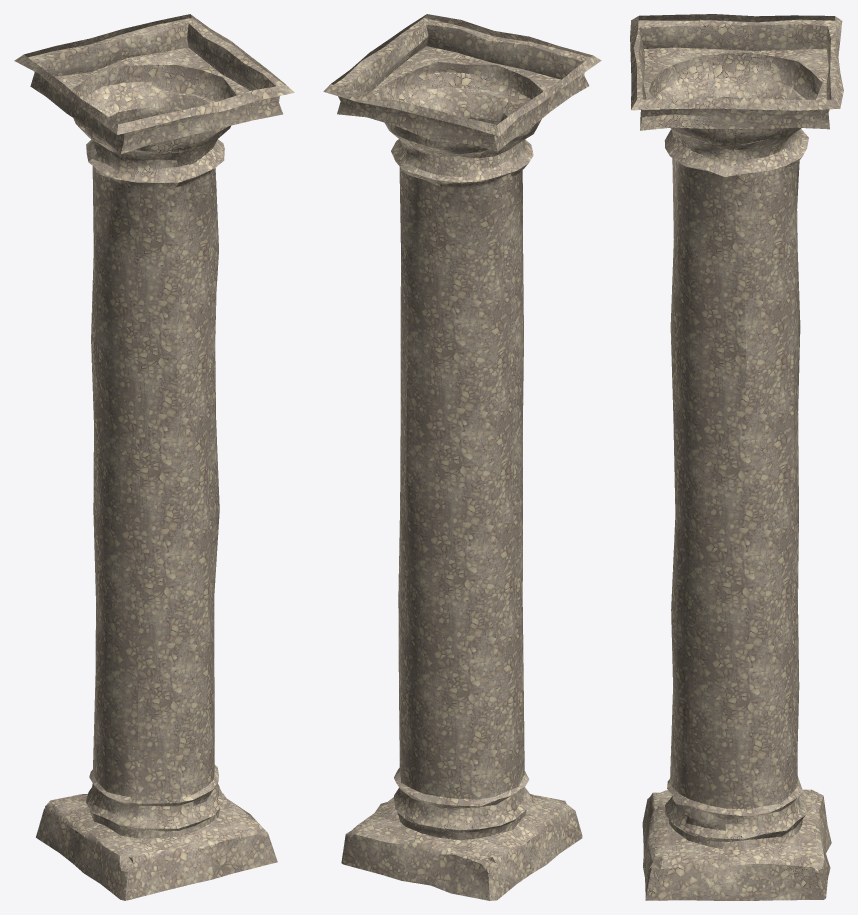
The model's file is SM_Ruins_Pillar_01.fbx.
The picture shows the model from 3 angles, left to right: view 1: azimuth 30°, elevation 25°; view 2: azimuth 150°, elevation 25°; view 3: azimuth 270°, elevation 25°; orthographic projection. The views are drawn at different scales.
Parts seen in each view (by area): view 1: Pillar_Ruins_1; view 2: Pillar_Ruins_1; view 3: Pillar_Ruins_1.
Part boxes in pixels (x1,y1,x2,y2): Pillar_Ruins_1: [14, 14, 294, 900]; Pillar_Ruins_1: [323, 14, 601, 900]; Pillar_Ruins_1: [630, 14, 843, 900].
Size of the model in its own units: 168 by 702 by 169.
